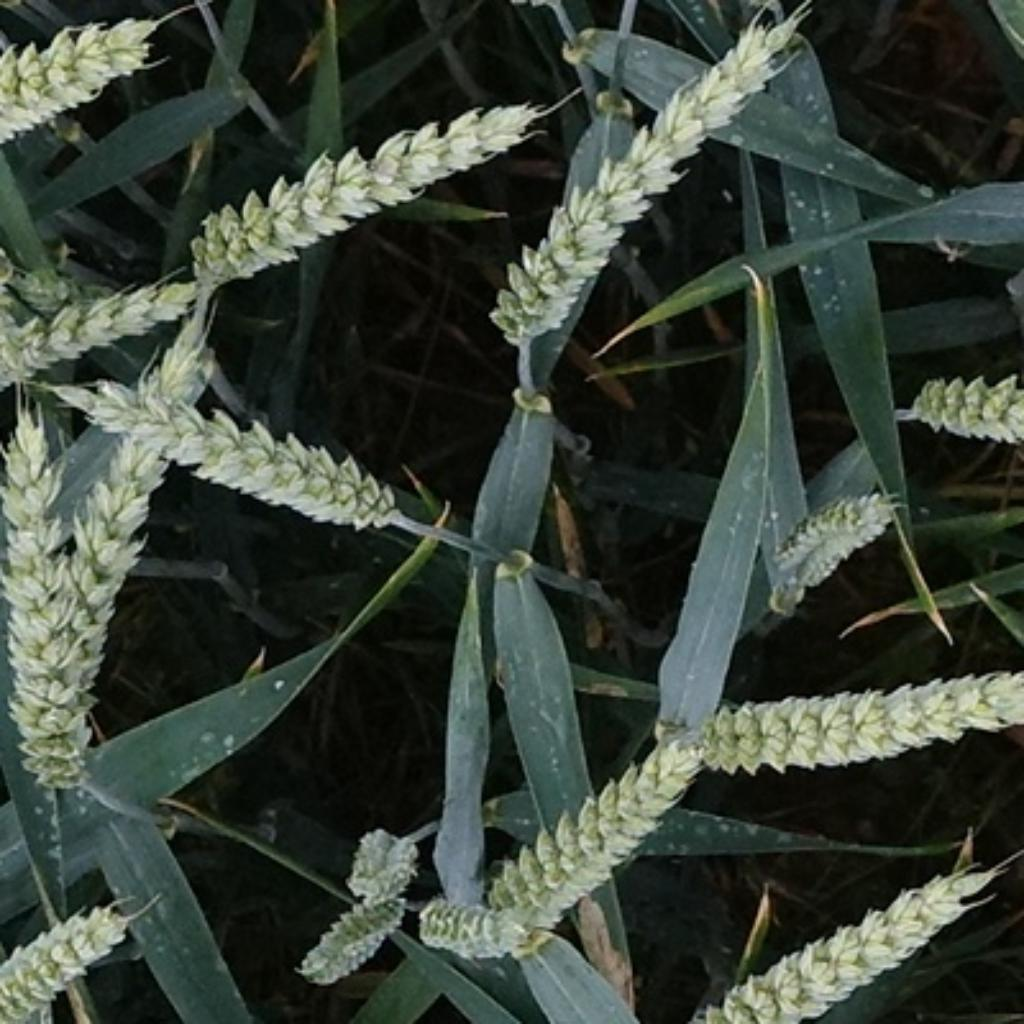0-0: (484, 3, 804, 350), (184, 82, 549, 294), (69, 296, 221, 726), (59, 380, 419, 537), (478, 716, 719, 931), (699, 861, 999, 1024), (674, 655, 1024, 787), (2, 389, 99, 802), (5, 245, 181, 378), (0, 11, 149, 147), (3, 883, 145, 1022), (764, 478, 912, 606), (892, 358, 1024, 456), (292, 888, 405, 996), (409, 888, 540, 960), (337, 816, 427, 898)
